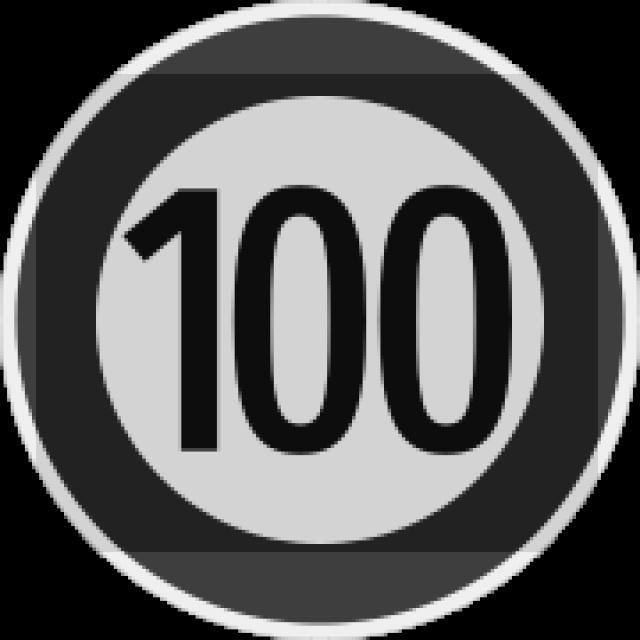speed limit 100: (15, 13, 624, 621)
